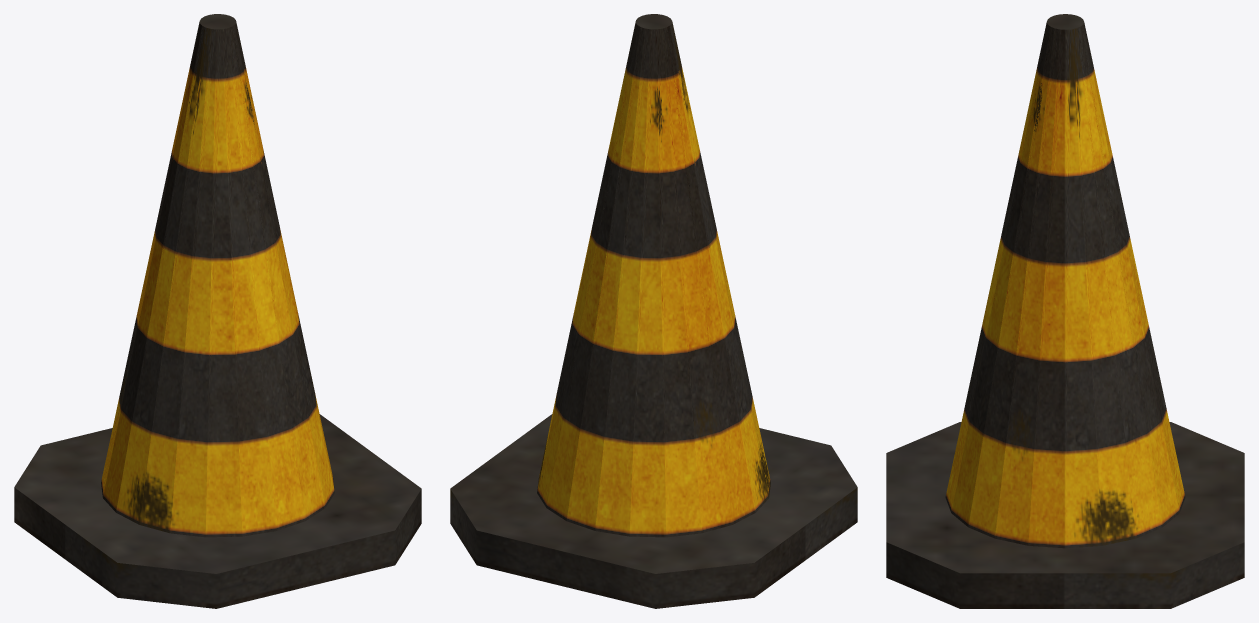
Rendered from ConeSmall.fbx.
The picture shows the model from 3 angles, left to right: view 1: azimuth 30°, elevation 25°; view 2: azimuth 150°, elevation 25°; view 3: azimuth 270°, elevation 25°; orthographic projection. The views are drawn at different scales.
Visible parts, largest first — view 1: smallcone; view 2: smallcone; view 3: smallcone.
Part boxes in pixels (x1,y1,x2,y2): smallcone: (14,14,421,608); smallcone: (450,14,857,608); smallcone: (886,14,1244,608).
Bounding box in the file's own units: 4.76 × 7.48 × 4.76.
